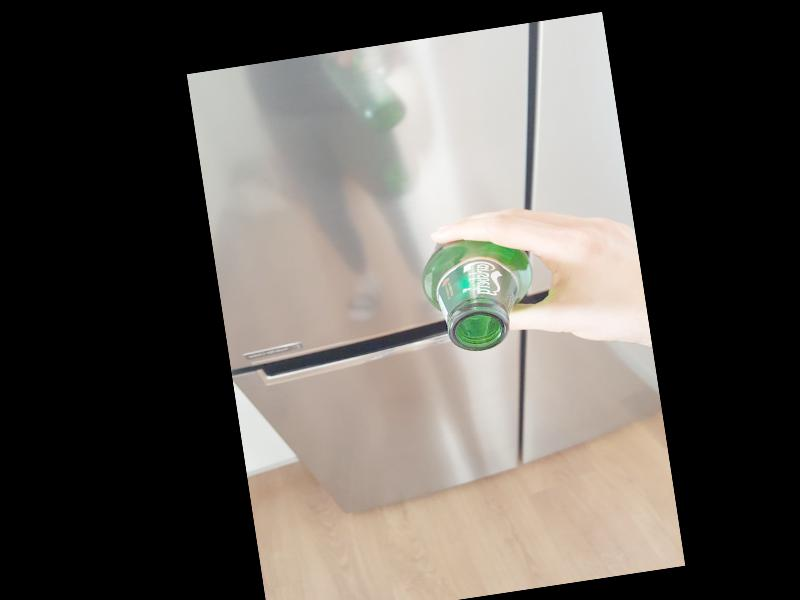Beer: (417, 230, 539, 358)
